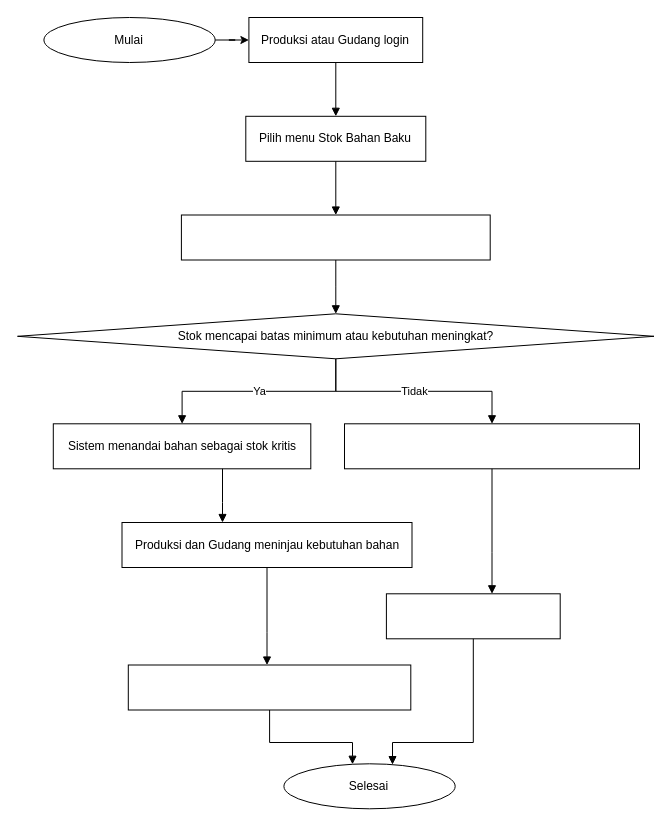
The diagram is 672 pixels wide and 827 high, and some of its shapes have lost their labels. Each missing label, with the centre of its shape:
"Gudang menginformasikan stok masih mencukupi" goes at (492,446).
"Indikasi kebutuhan dicatat sebagai dasar FPBB" goes at (269,687).
"Pengadaan tidak diperlukan" goes at (472,616).
"Sistem menampilkan saldo stok dan batas minimum" goes at (335,237).
